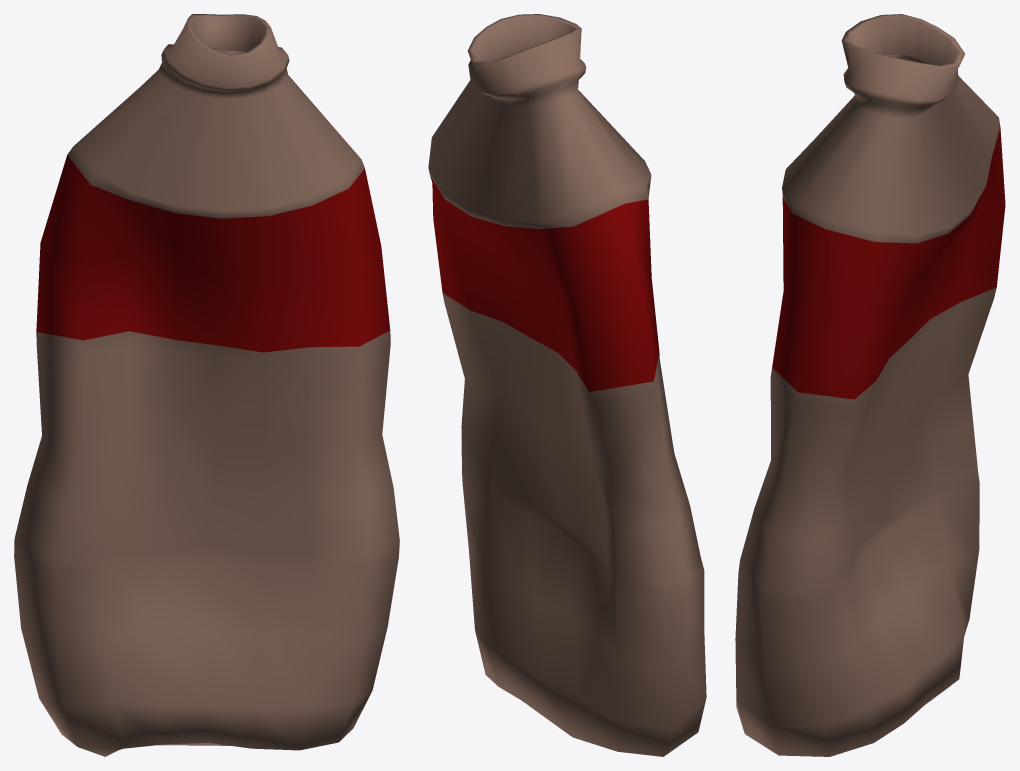
File: Mesh_WaterBottle_S_Crushed.fbx
The picture shows the model from 3 angles, left to right: view 1: azimuth 30°, elevation 25°; view 2: azimuth 150°, elevation 25°; view 3: azimuth 270°, elevation 25°; orthographic projection. The views are drawn at different scales.
Visible parts, largest first — view 1: water Bottle.001; view 2: water Bottle.001; view 3: water Bottle.001.
Part boxes in pixels (box(x1,y1,x2,y2)): water Bottle.001: box(14, 14, 399, 756); water Bottle.001: box(428, 14, 706, 756); water Bottle.001: box(735, 14, 1005, 756).
Size of the model in its own units: 13.75 by 30.59 by 10.61.
